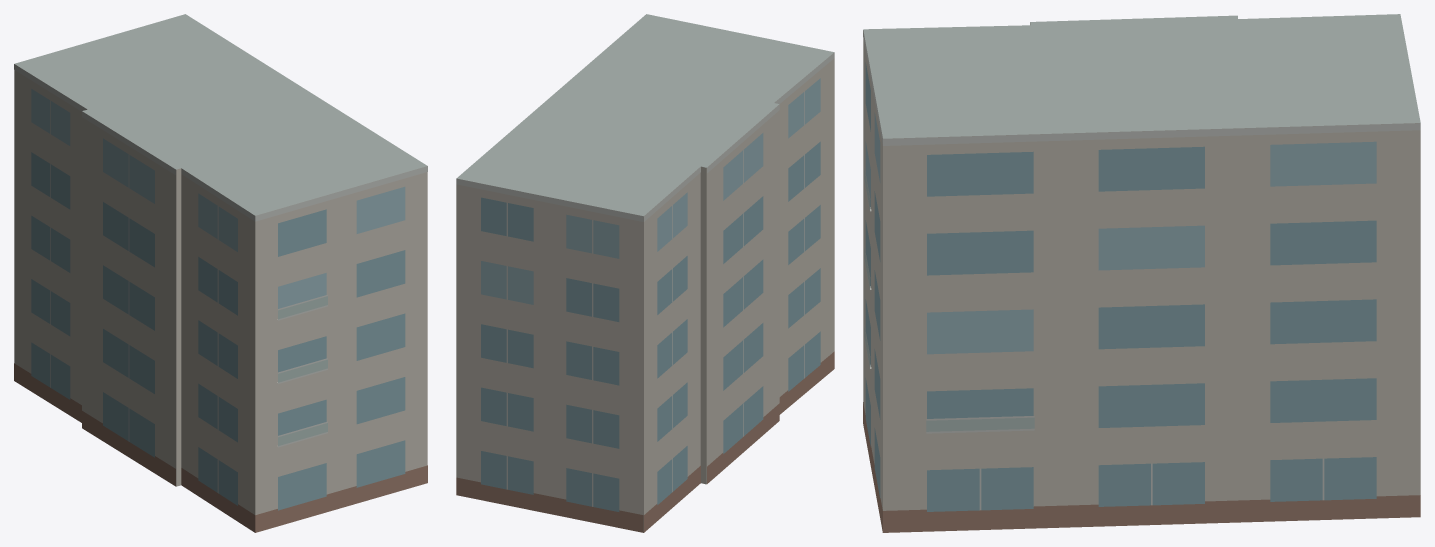
The model's file is survey-upis-32630678.glb.
The picture shows the model from 3 angles, left to right: view 1: azimuth 30°, elevation 25°; view 2: azimuth 150°, elevation 25°; view 3: azimuth 270°, elevation 25°; orthographic projection. The views are drawn at different scales.
Visible parts, largest first — view 1: survey-upis-32630678.tmp; view 2: survey-upis-32630678.tmp; view 3: survey-upis-32630678.tmp.
Part boxes in pixels (box(x1,y1,x2,y2)): survey-upis-32630678.tmp: box(14, 14, 427, 532); survey-upis-32630678.tmp: box(456, 14, 834, 532); survey-upis-32630678.tmp: box(863, 14, 1420, 532).
Size of the model in its own units: 8.97 by 13.2 by 16.93.
